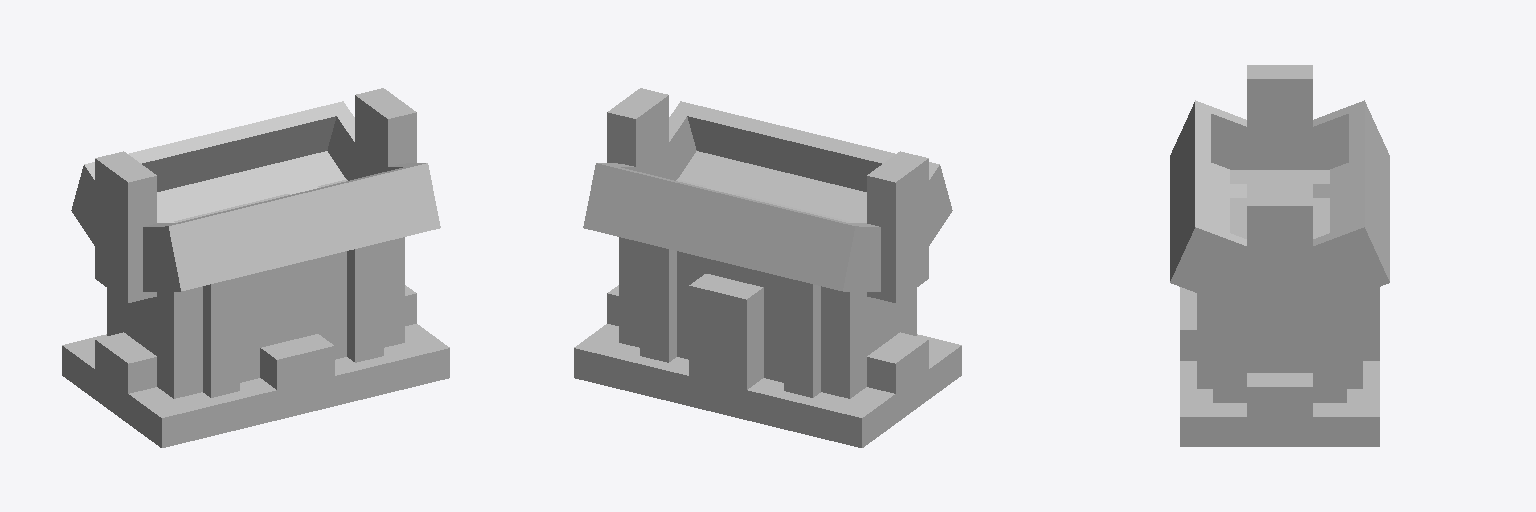
File: crusher_empty.obj
The picture shows the model from 3 angles: view 1: azimuth 30°, elevation 25°; view 2: azimuth 150°, elevation 25°; view 3: azimuth 270°, elevation 25°; orthographic projection.
Parts seen in each view (by area): view 1: base, basin_back, body, basin_front, io_right, beam3, beam4, io_left; view 2: base, basin_front, basin_back, body, io_right, io_left, beam2, beam1; view 3: base, basin_front, basin_back, body, io_left, io_right, beam1, beam4.
Boxes of the visible parts, box(x1,y1,x2,y2) form: base: box(62, 285, 449, 447); basin_back: box(143, 163, 440, 291); body: box(107, 179, 404, 398); basin_front: box(71, 101, 374, 245); io_right: box(95, 151, 156, 302); beam3: box(203, 277, 239, 397); beam4: box(347, 242, 383, 362); io_left: box(355, 88, 416, 173); base: box(574, 274, 961, 447); basin_front: box(583, 163, 880, 291); basin_back: box(649, 101, 952, 245); body: box(619, 179, 916, 398); io_right: box(867, 151, 928, 302); io_left: box(607, 88, 668, 173); beam2: box(784, 277, 820, 397); beam1: box(640, 242, 676, 362); base: box(1180, 287, 1379, 446); basin_front: box(1276, 100, 1389, 311); basin_back: box(1170, 100, 1282, 311); body: box(1213, 170, 1346, 402); io_left: box(1247, 192, 1312, 325); io_right: box(1247, 65, 1312, 169); beam1: box(1347, 293, 1362, 388); beam4: box(1197, 293, 1212, 388).
Bounding box in the file's own units: 5 × 4 × 3.31.